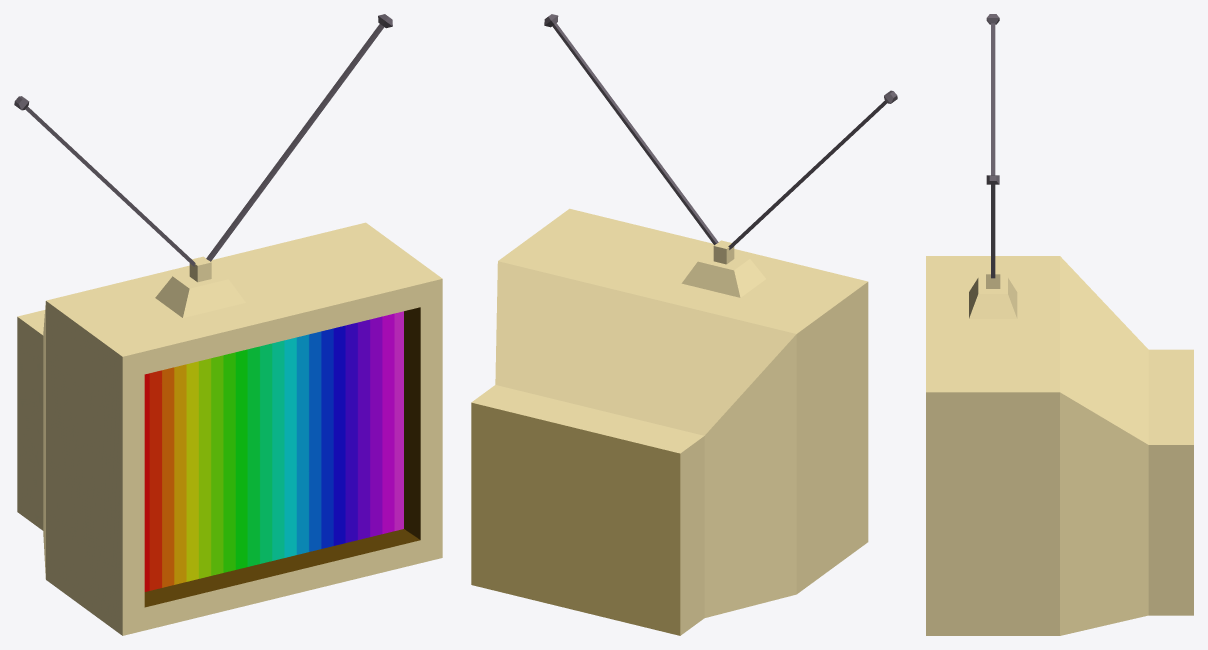
3 views of the same model, side by side, from view 1: azimuth 30°, elevation 25°; view 2: azimuth 150°, elevation 25°; view 3: azimuth 270°, elevation 25° (orthographic). The views are drawn at different scales.
Visible parts, largest first — view 1: TV; view 2: TV; view 3: TV.
Boxes of the visible parts, box(x1,y1,x2,y2) form: TV: box(14, 14, 442, 635); TV: box(471, 14, 897, 635); TV: box(926, 14, 1193, 635).
Bounding box in the file's own units: 72.65 × 94.13 × 49.81.
